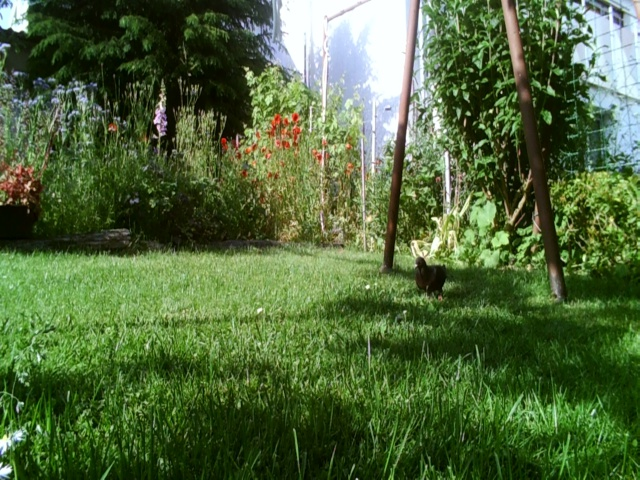Pigeon: (411, 252, 454, 304)
